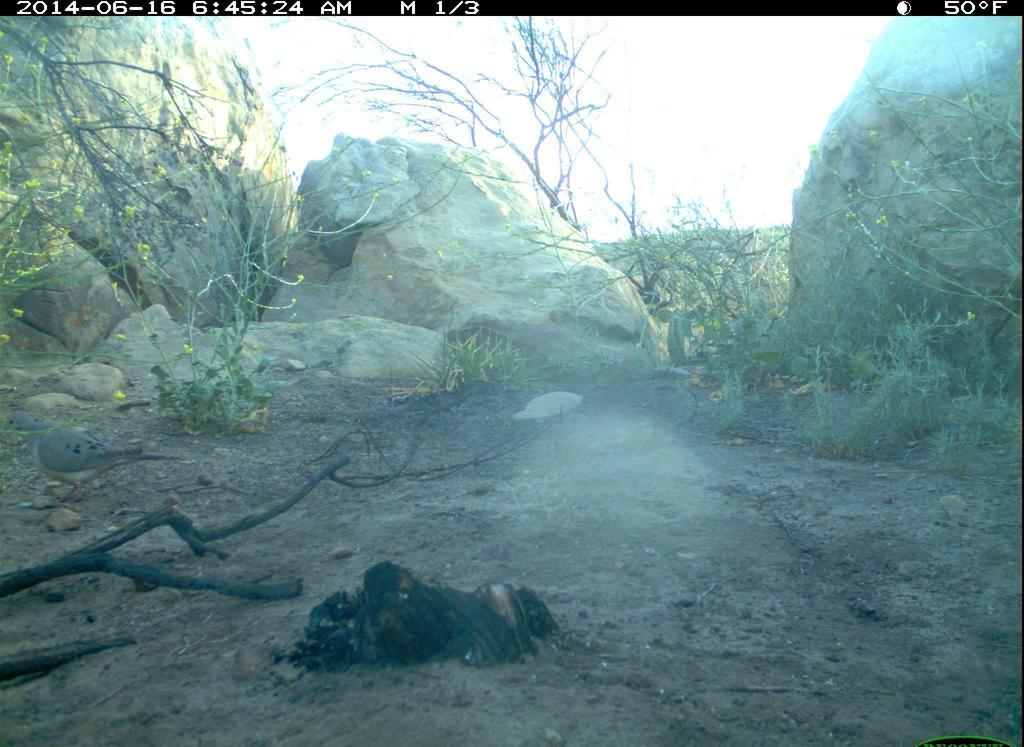bird: (3, 392, 178, 518)
